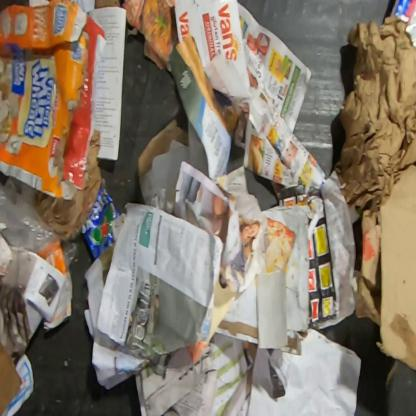cardboard: (0, 0, 107, 199), (376, 163, 415, 373), (137, 119, 189, 181), (356, 209, 382, 324), (0, 336, 24, 415), (385, 359, 401, 386)
metal: (81, 188, 121, 260)
soft_plastic: (0, 181, 78, 269), (391, 0, 416, 136)
